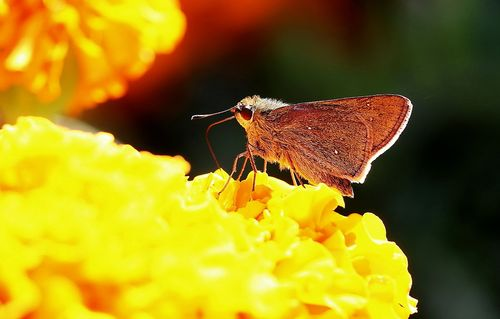Hesperiidae: (185, 87, 415, 201)
